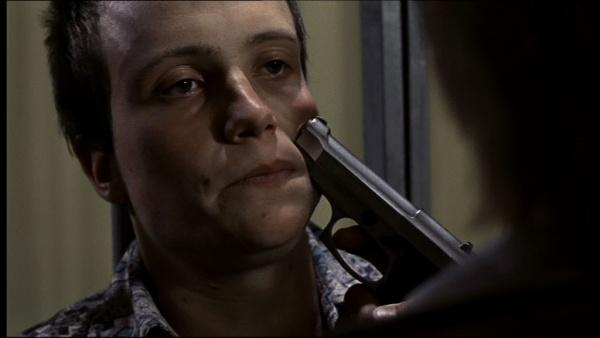Gun: (295, 113, 480, 305)
